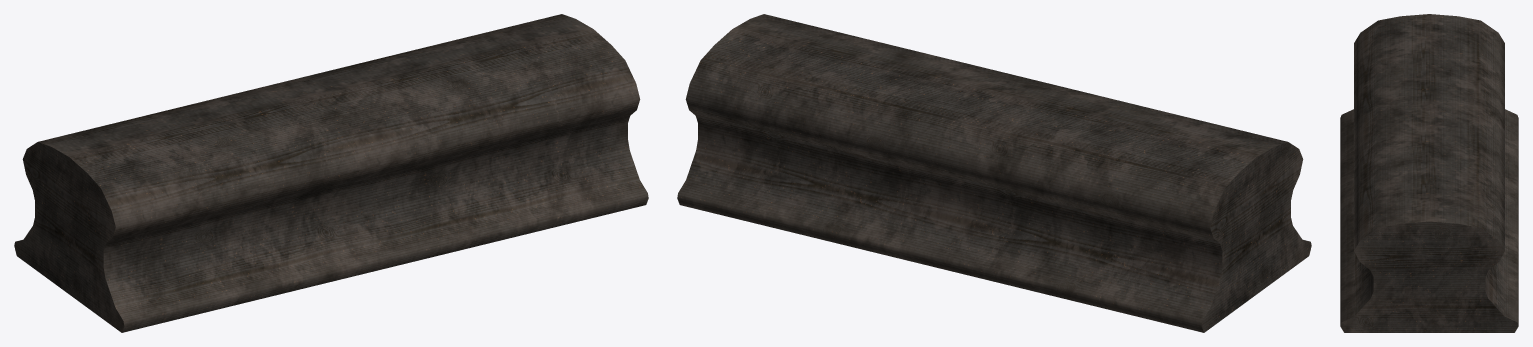
Rendered from ShrineModule_Roof-06.fbx.
3 renders of one model, left to right at view 1: azimuth 30°, elevation 25°; view 2: azimuth 150°, elevation 25°; view 3: azimuth 270°, elevation 25°, orthographic. The views are drawn at different scales.
Parts seen in each view (by area): view 1: ShrineModule_Roof-06; view 2: ShrineModule_Roof-06; view 3: ShrineModule_Roof-06.
Boxes of the visible parts, x1,y1,x2,y2 form: ShrineModule_Roof-06: [14, 14, 648, 332]; ShrineModule_Roof-06: [677, 14, 1311, 332]; ShrineModule_Roof-06: [1340, 14, 1518, 332].
Size of the model in its own units: 1.5 by 0.3757 by 0.5454.
